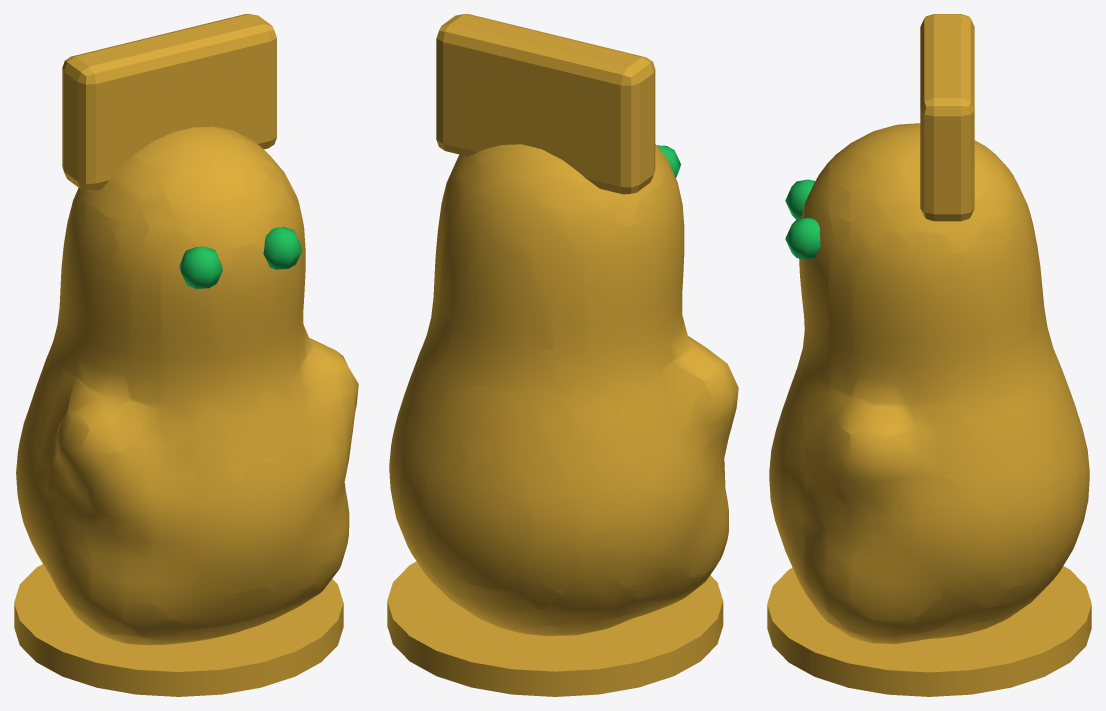
The model's file is idol.glb.
3 renders of one model, left to right at view 1: azimuth 30°, elevation 25°; view 2: azimuth 150°, elevation 25°; view 3: azimuth 270°, elevation 25°, orthographic. The views are drawn at different scales.
Visible parts, largest first — view 1: idol.001; view 2: idol.001; view 3: idol.001.
Part boxes in pixels (<box>): idol.001: <box>14,14,358,696</box>; idol.001: <box>387,14,738,696</box>; idol.001: <box>767,14,1091,696</box>.
Size of the model in its own units: 0.0731 by 0.14 by 0.072.
